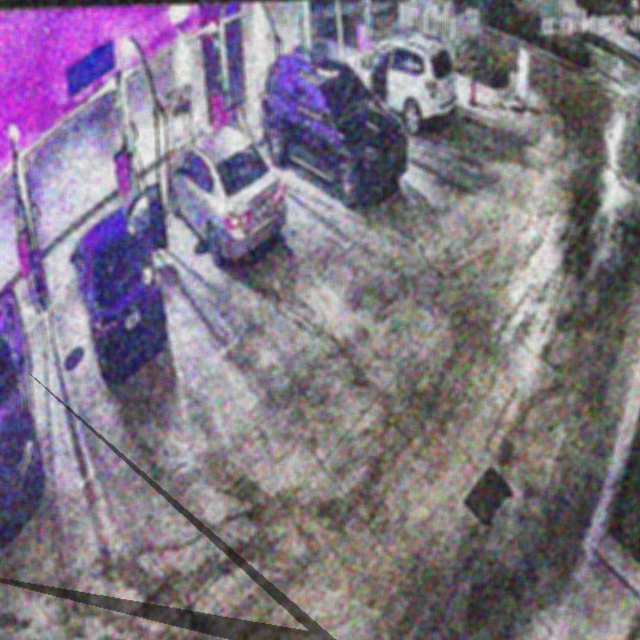Car: (260, 46, 408, 205), (71, 182, 169, 379), (167, 124, 287, 264)
